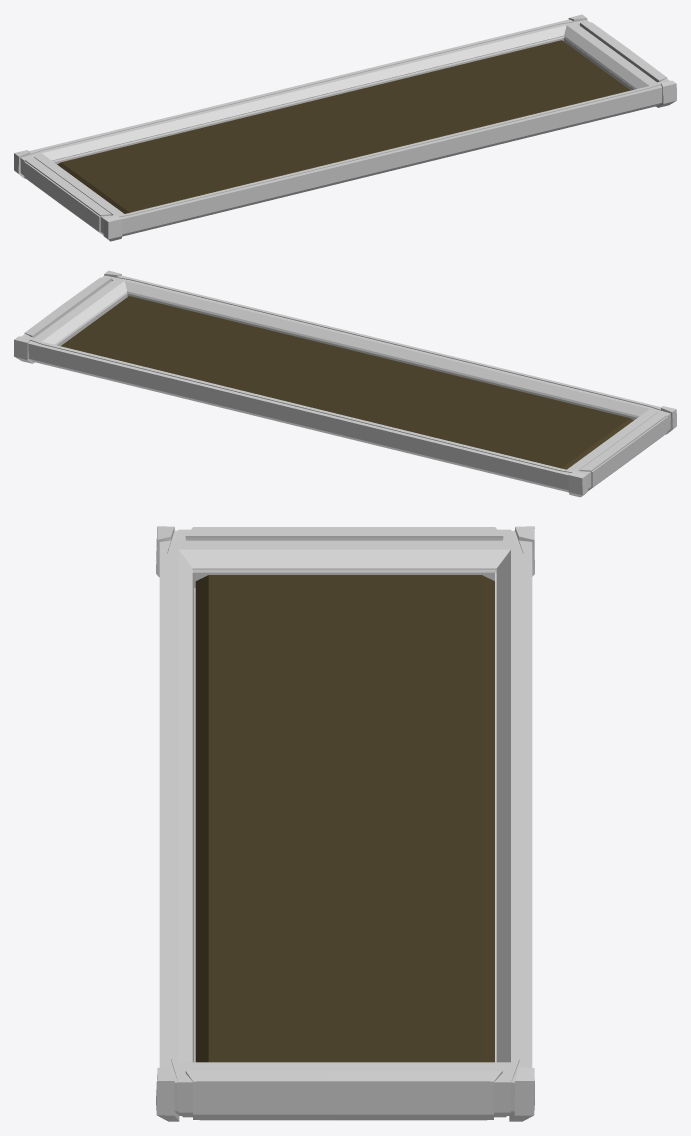
Rendered from Pot.fbx.
3 renders of one model, top to bottom at view 1: azimuth 30°, elevation 25°; view 2: azimuth 150°, elevation 25°; view 3: azimuth 270°, elevation 25°, orthographic. The views are drawn at different scales.
Parts seen in each view (by area): view 1: pCube30; view 2: pCube30; view 3: pCube30.
Boxes of the visible parts, bbox=[...] form: pCube30: bbox=[14, 14, 676, 241]; pCube30: bbox=[14, 270, 676, 497]; pCube30: bbox=[156, 526, 534, 1121].
Size of the model in its own units: 13.54 by 0.5399 by 3.91.
